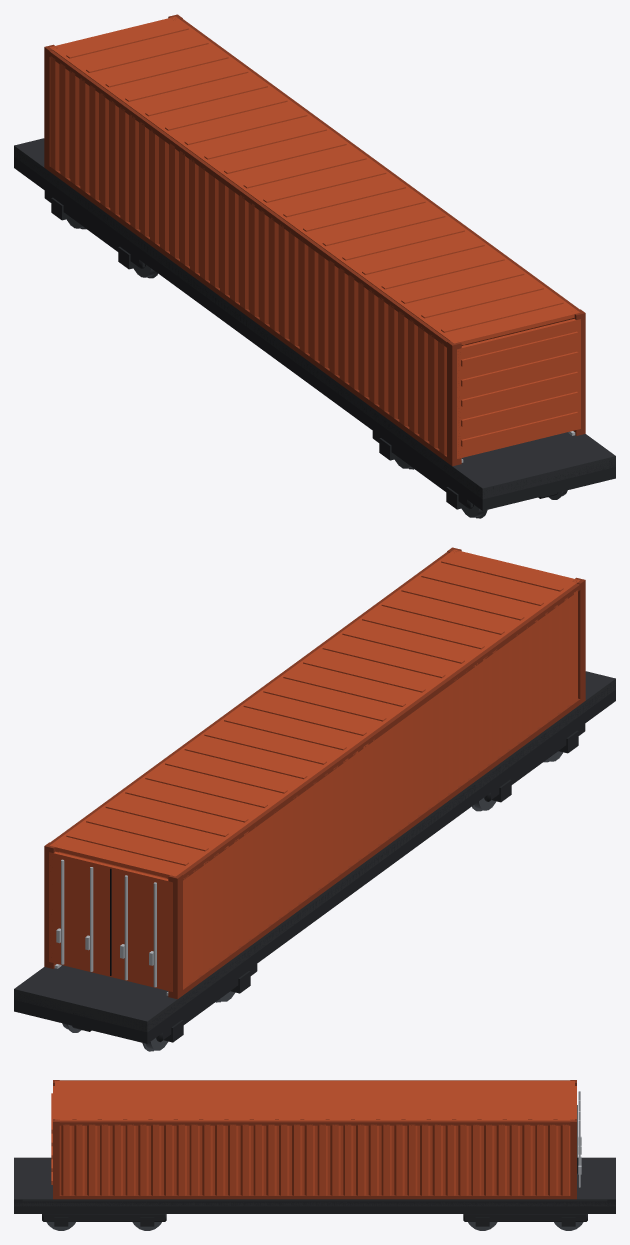
File: wagon_container.glb
3 views of the same model, one above another, from view 1: azimuth 30°, elevation 25°; view 2: azimuth 150°, elevation 25°; view 3: azimuth 270°, elevation 25° (orthographic). The views are drawn at different scales.
Parts seen in each view (by area): view 1: Container_40ft, Wagon_Flatcar, Wagon_Bogie_Front, Wagon_Bogie_Rear; view 2: Container_40ft, Wagon_Flatcar, Wagon_Bogie_Rear, Wagon_Bogie_Front; view 3: Container_40ft, Wagon_Flatcar, Wagon_Bogie_Front, Wagon_Bogie_Rear.
Boxes of the visible parts, bbox=[...] form: Container_40ft: bbox=[44, 14, 585, 466]; Wagon_Flatcar: bbox=[14, 138, 615, 510]; Wagon_Bogie_Front: bbox=[372, 431, 567, 518]; Wagon_Bogie_Rear: bbox=[44, 191, 157, 278]; Container_40ft: bbox=[44, 547, 585, 999]; Wagon_Flatcar: bbox=[14, 671, 615, 1043]; Wagon_Bogie_Rear: bbox=[62, 964, 257, 1051]; Wagon_Bogie_Front: bbox=[472, 724, 585, 811]; Container_40ft: bbox=[51, 1080, 581, 1199]; Wagon_Flatcar: bbox=[14, 1157, 615, 1213]; Wagon_Bogie_Front: bbox=[42, 1214, 166, 1230]; Wagon_Bogie_Rear: bbox=[463, 1214, 587, 1230].
Size of the model in its own units: 2.3 by 3.03 by 14.
